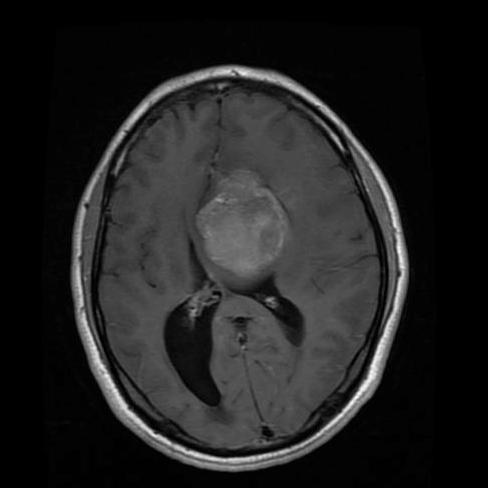Tumour-Meningioma: (179, 155, 302, 299)
